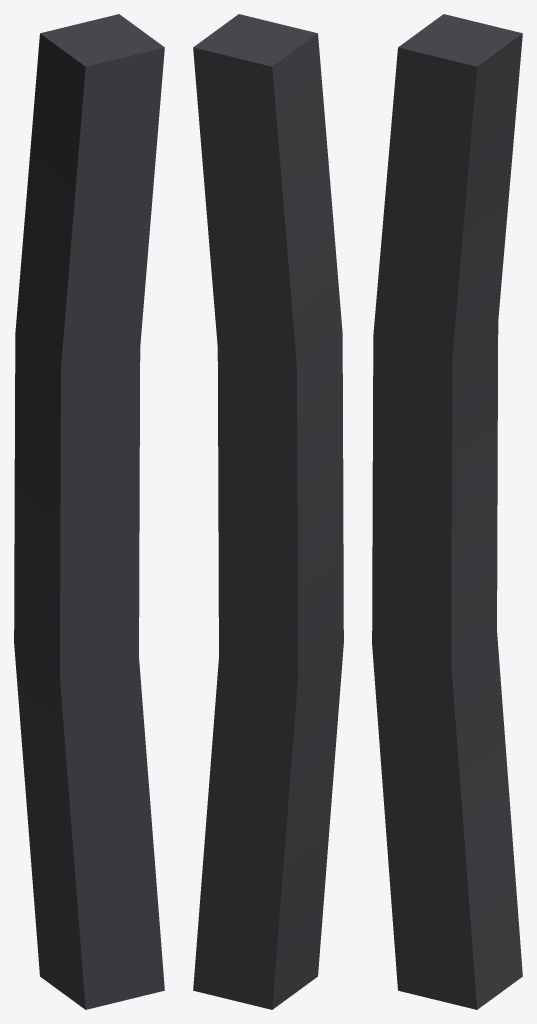
Rendered from SM_L_G_Home_Pillar.fbx.
The picture shows the model from 3 angles, left to right: view 1: azimuth 30°, elevation 25°; view 2: azimuth 150°, elevation 25°; view 3: azimuth 330°, elevation 25°; orthographic projection.
Parts seen in each view (by area): view 1: SM_L_G_Home_pillar; view 2: SM_L_G_Home_pillar; view 3: SM_L_G_Home_pillar.
Boxes of the visible parts, x1,y1,x2,y2 form: SM_L_G_Home_pillar: (14, 14, 164, 1009); SM_L_G_Home_pillar: (193, 14, 343, 1009); SM_L_G_Home_pillar: (372, 14, 522, 1009).
Bounding box in the file's own units: 49.74 × 427 × 37.49.
